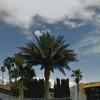Tree: (20, 23, 100, 76)
